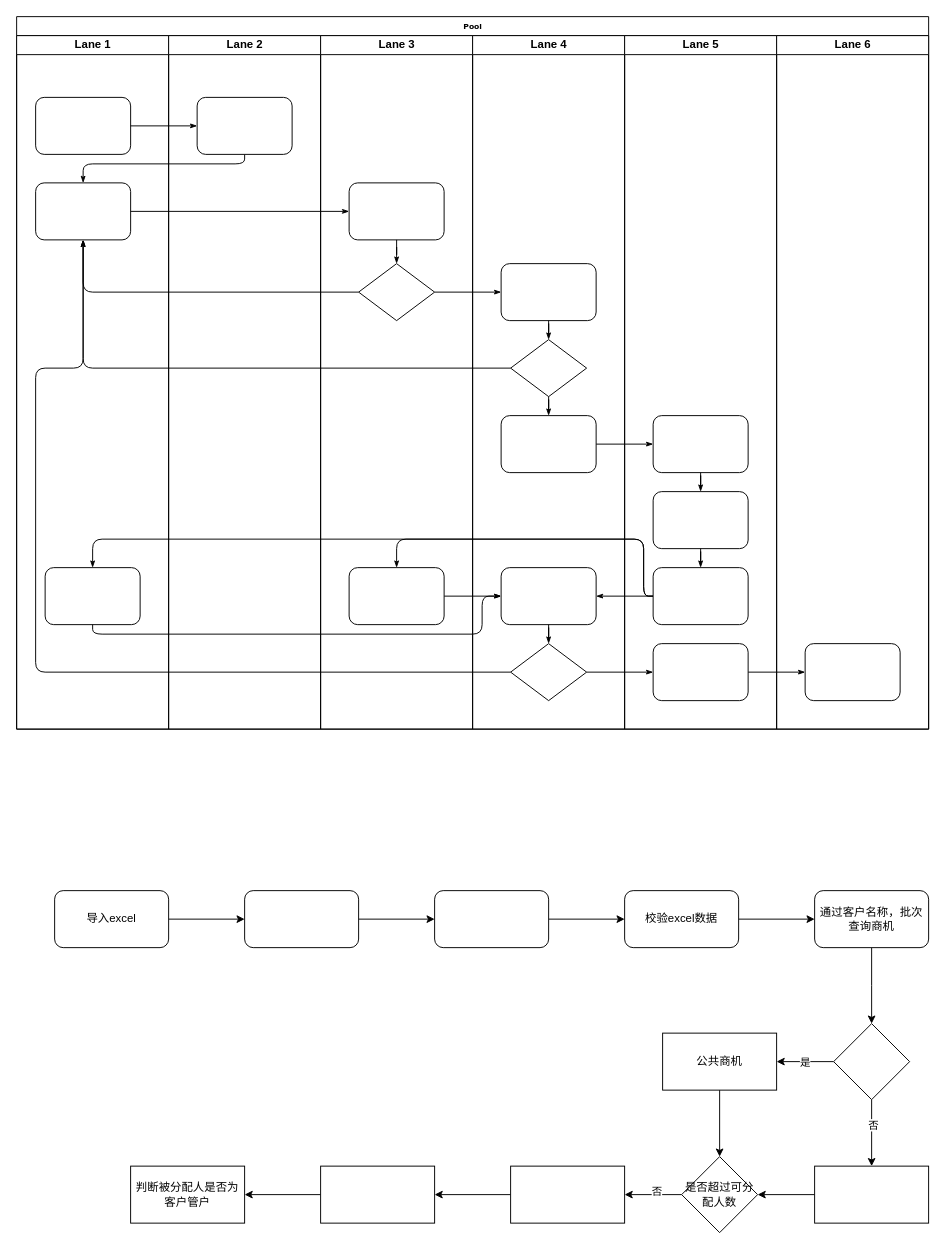
This 945x1249 diagram has some shape labels left out. Each missing label, with the centre of its shape:
判断待分配人员和已分配人员是否重复: point (567, 1194)
待分配人员是否在导入人所在机构下辖: point (377, 1194)
是否公共商机: point (871, 1061)
校验表头: point (301, 919)
重复导入校验: point (491, 919)
非公共商机: point (871, 1194)
